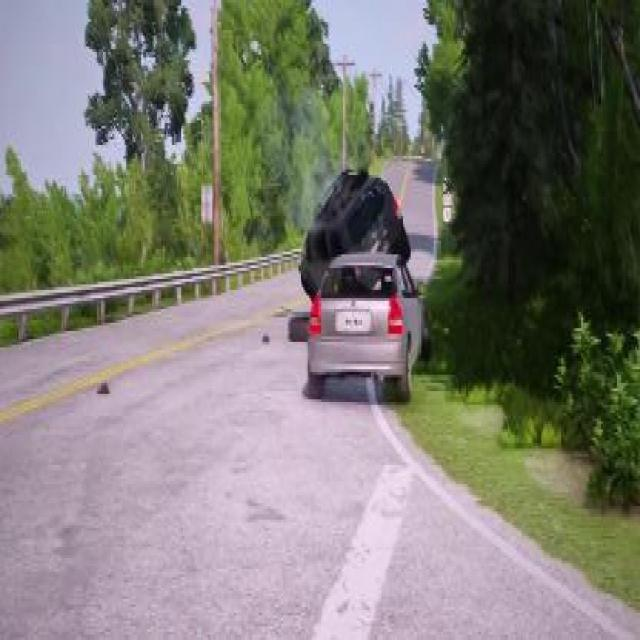accident: (292, 156, 431, 407)
